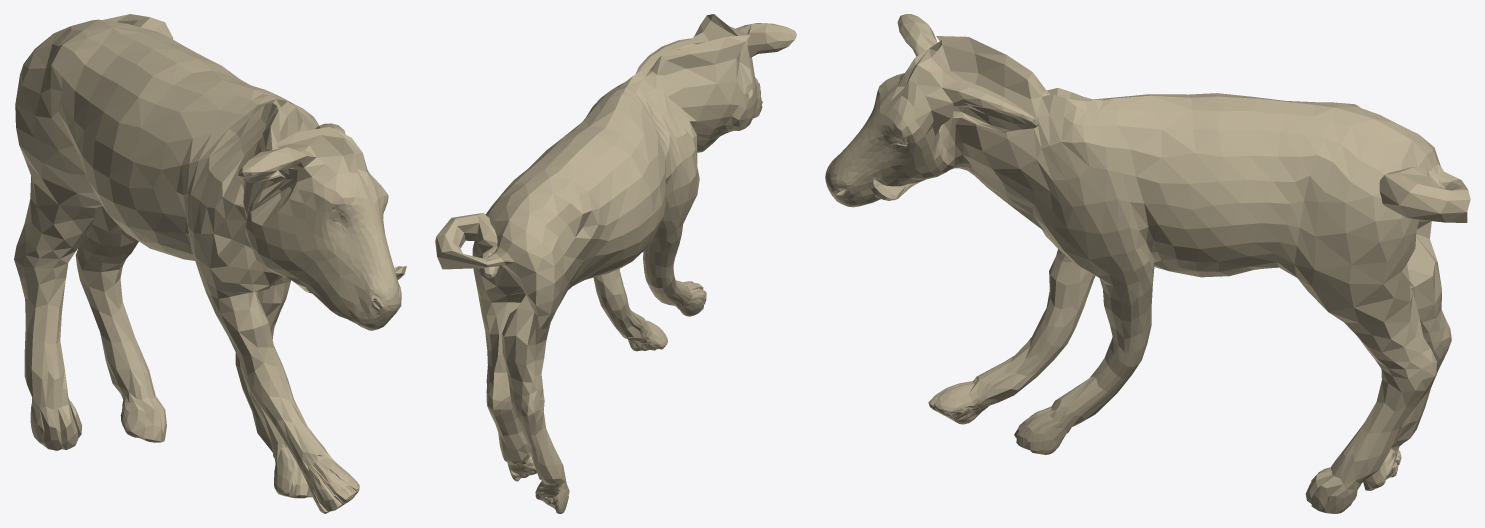
3 renders of one model, left to right at view 1: azimuth 30°, elevation 25°; view 2: azimuth 150°, elevation 25°; view 3: azimuth 270°, elevation 25°, orthographic. The views are drawn at different scales.
Parts seen in each view (by area): view 1: world; view 2: world; view 3: world.
Boxes of the visible parts, box(x1,y1,x2,y2) form: world: box(14, 14, 406, 513); world: box(435, 14, 796, 513); world: box(825, 14, 1470, 513).
Size of the model in its own units: 0.5738 by 1.33 by 1.72.
